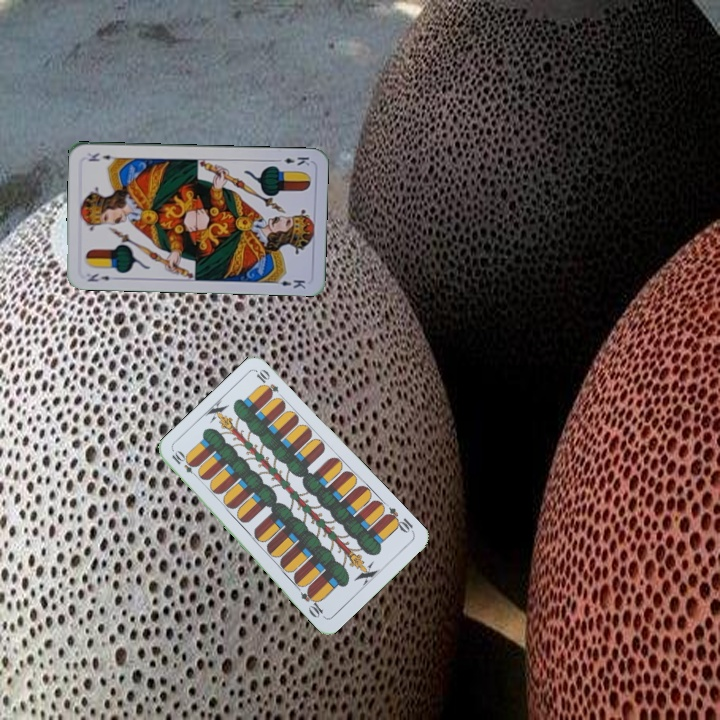E10: (381, 503, 417, 536), (168, 447, 202, 481)
EK: (272, 153, 312, 168), (84, 269, 112, 284)
